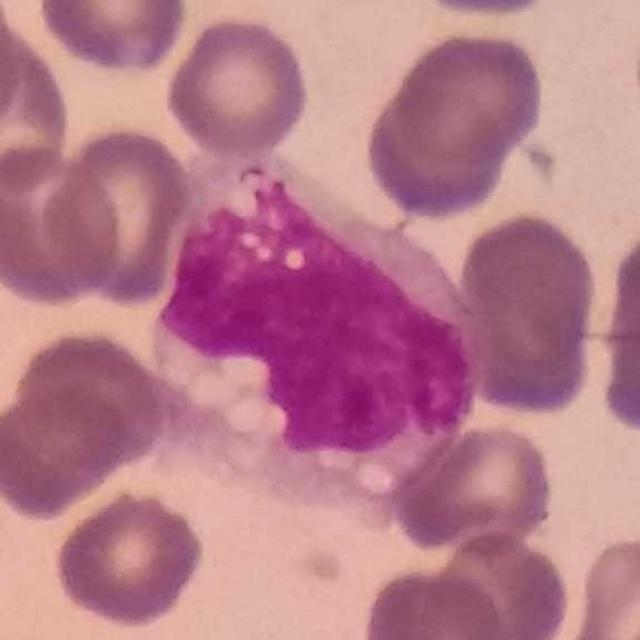mono: (143, 132, 486, 532)
